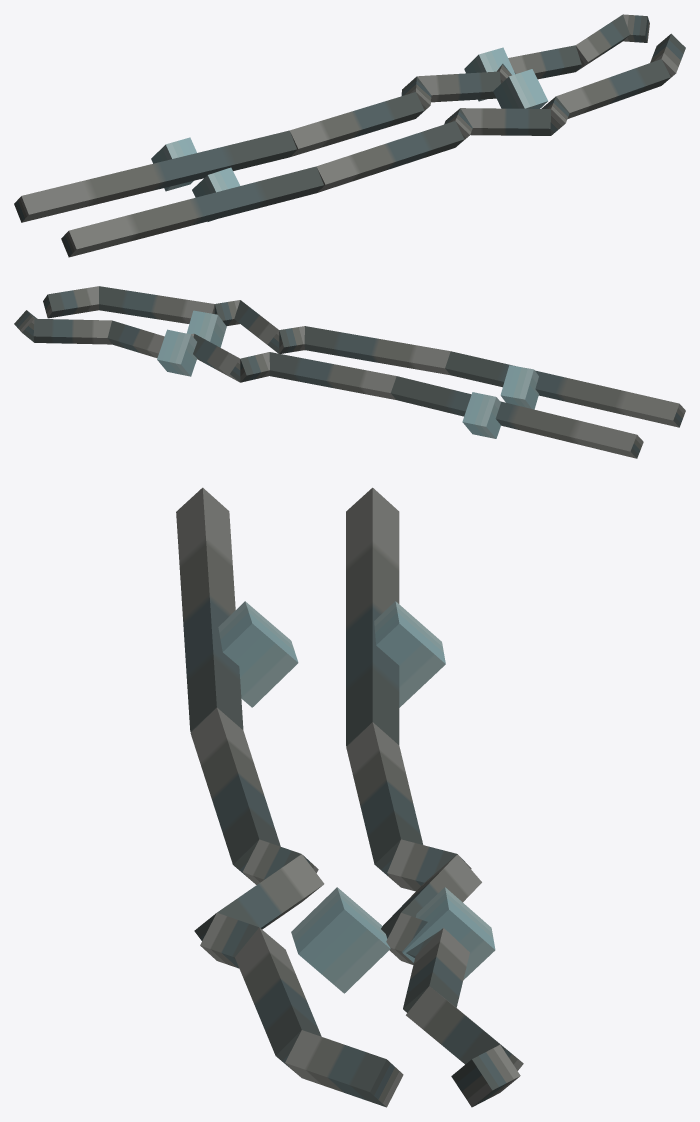
File: pz_native_electrical_210.obj
3 renders of one model, top to bottom at view 1: azimuth 30°, elevation 25°; view 2: azimuth 150°, elevation 25°; view 3: azimuth 270°, elevation 25°, orthographic. The views are drawn at different scales.
Visible parts, largest first — view 1: conduit, conduit_end; view 2: conduit, conduit_end; view 3: conduit, conduit_end.
Part boxes in pixels (x1,y1,x2,y2): conduit: (21,14,685,257); conduit_end: (14,17,675,257); conduit: (14,286,679,458); conduit_end: (22,294,685,458); conduit: (176,487,520,1106); conduit_end: (190,623,523,1107).
Bounding box in the file's own units: 0.619 × 0.042 × 0.1566.
1 material, 1 textured.
